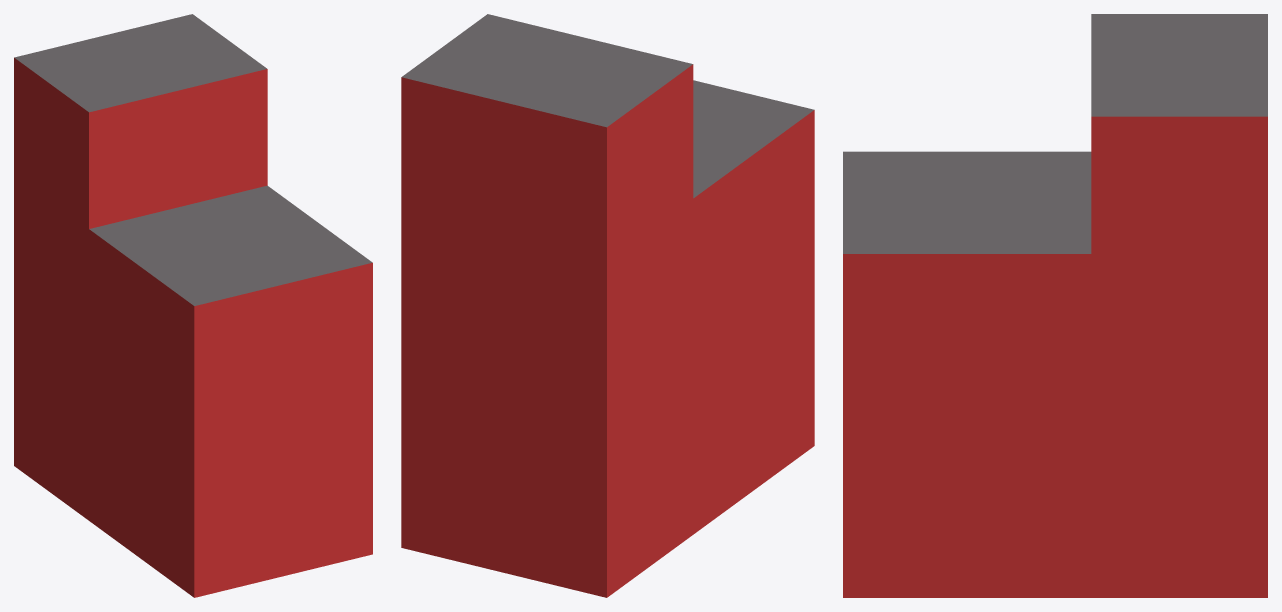
File: Building2.fbx
3 views of the same model, side by side, from view 1: azimuth 30°, elevation 25°; view 2: azimuth 150°, elevation 25°; view 3: azimuth 270°, elevation 25° (orthographic). The views are drawn at different scales.
Visible parts, largest first — view 1: Building2; view 2: Building2; view 3: Building2.
Part boxes in pixels (x1,y1,x2,y2): Building2: [14, 14, 372, 597]; Building2: [401, 14, 814, 597]; Building2: [843, 14, 1267, 597].
Size of the model in its own units: 800 by 1750 by 1400.
